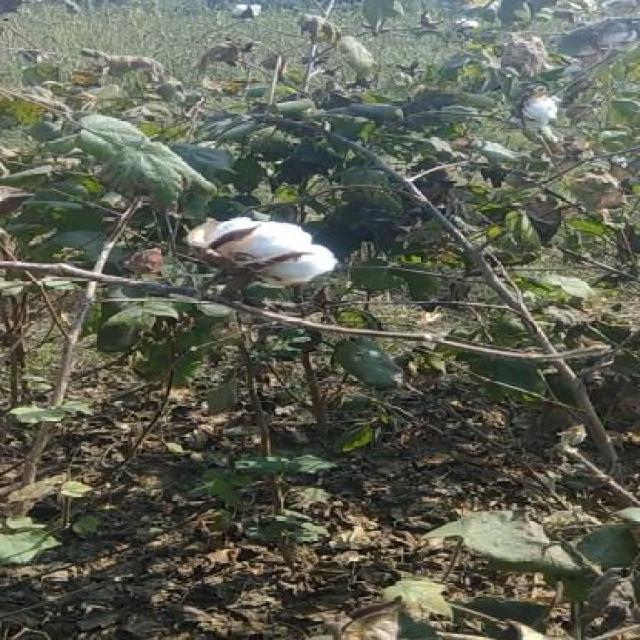cotton_ready: (167, 207, 361, 315)
